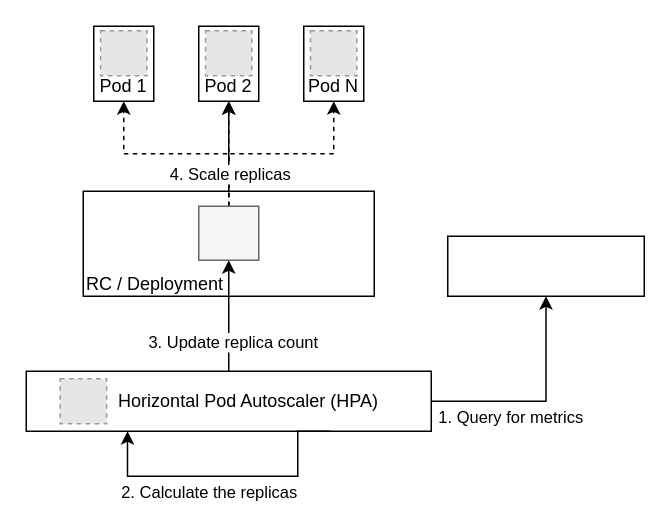
This 671x528 diagram has some shape labels left out. Grey dashed boxes stand in for pictures. The shapes that lost their labels are listed below. From the top down, each one's centre as x and y in pixels, then its label:
(228,232): Scale
(545,265): Metrics Server
